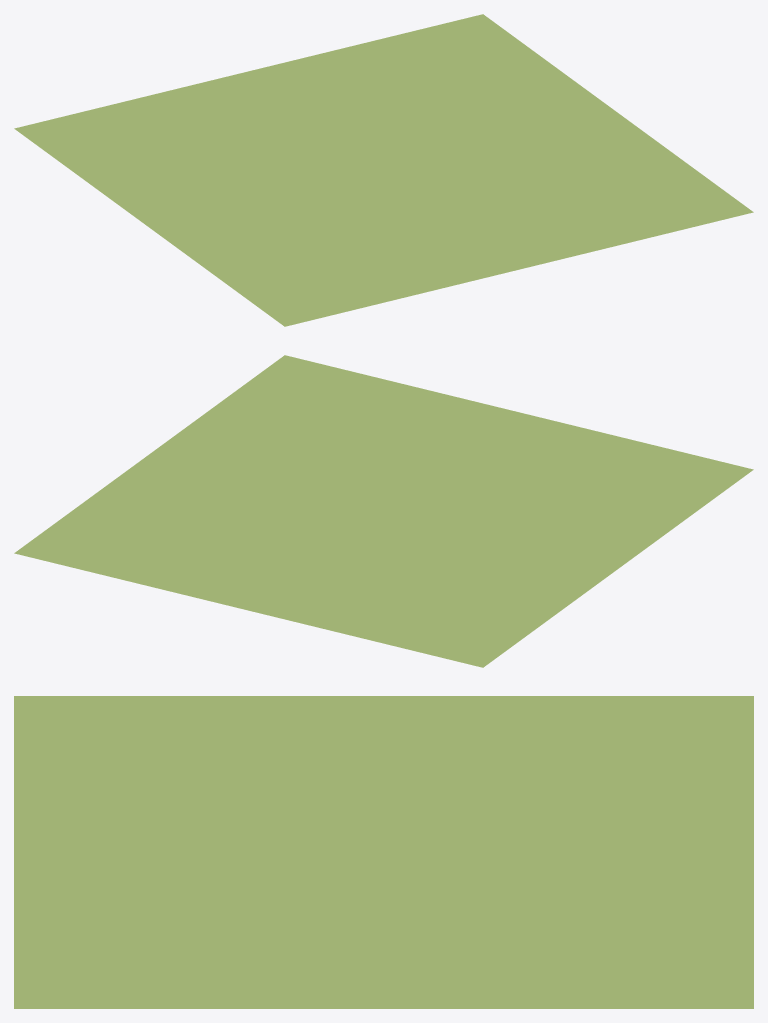
The model's file is environmentproject_floor_c.fbx.
The picture shows the model from 3 angles, top to bottom: view 1: azimuth 30°, elevation 25°; view 2: azimuth 150°, elevation 25°; view 3: azimuth 270°, elevation 25°; orthographic projection. The views are drawn at different scales.
Visible parts, largest first — view 1: floor_c_GEO_01; view 2: floor_c_GEO_01; view 3: floor_c_GEO_01.
Part boxes in pixels (bbox=[...]): floor_c_GEO_01: bbox=[14, 14, 753, 326]; floor_c_GEO_01: bbox=[14, 355, 753, 667]; floor_c_GEO_01: bbox=[14, 696, 753, 1008].
Size of the model in its own units: 200 by 0 by 200.
